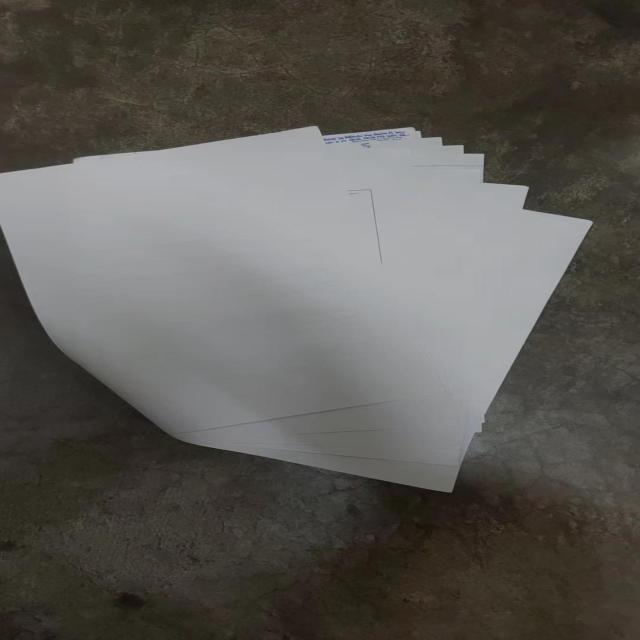paper: (0, 126, 594, 492)
